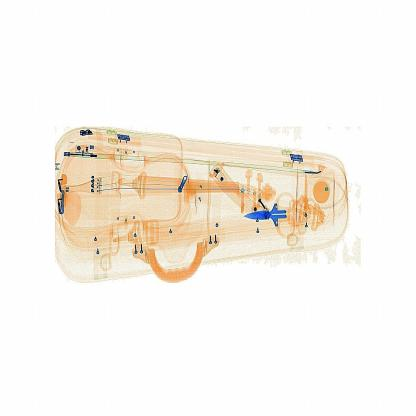gun: (245, 184, 304, 240)
